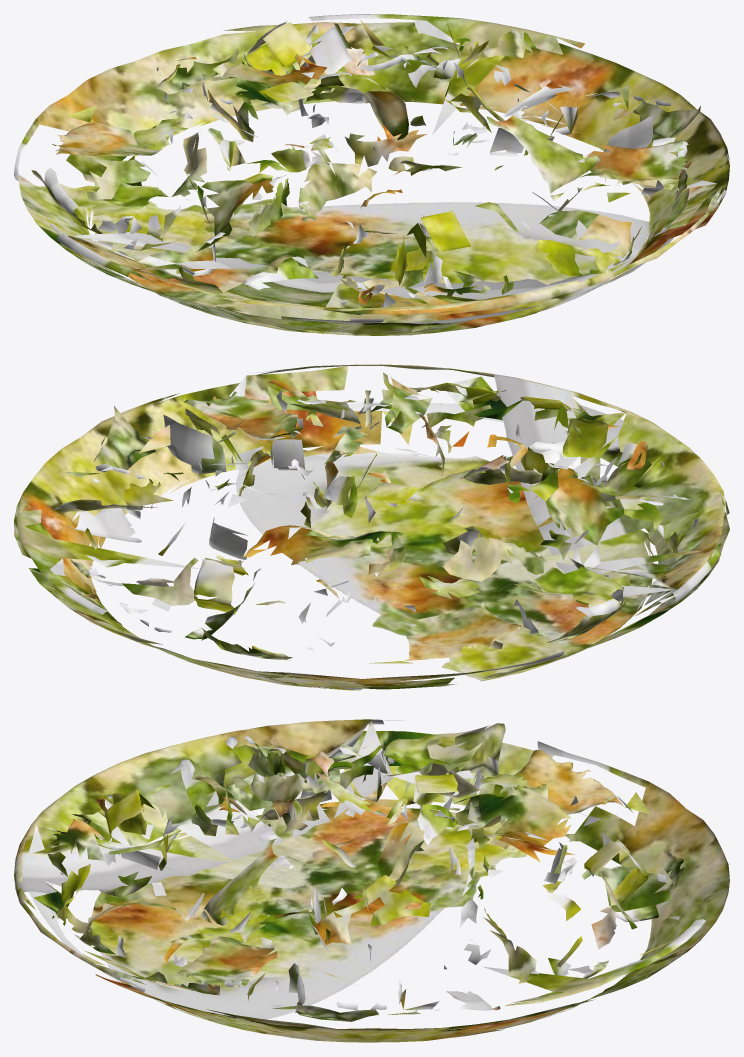
Rendered from insalata_cesare_gde.fbx.
3 renders of one model, top to bottom at view 1: azimuth 30°, elevation 25°; view 2: azimuth 150°, elevation 25°; view 3: azimuth 270°, elevation 25°, orthographic.
Parts seen in each view (by area): view 1: meshes[0]; view 2: meshes[0]; view 3: meshes[0].
Part boxes in pixels (x1,y1,x2,y2): meshes[0]: (14,14,729,335); meshes[0]: (14,364,729,690); meshes[0]: (14,719,729,1042).
Size of the model in its own units: 99.8 by 20.9 by 99.8.
